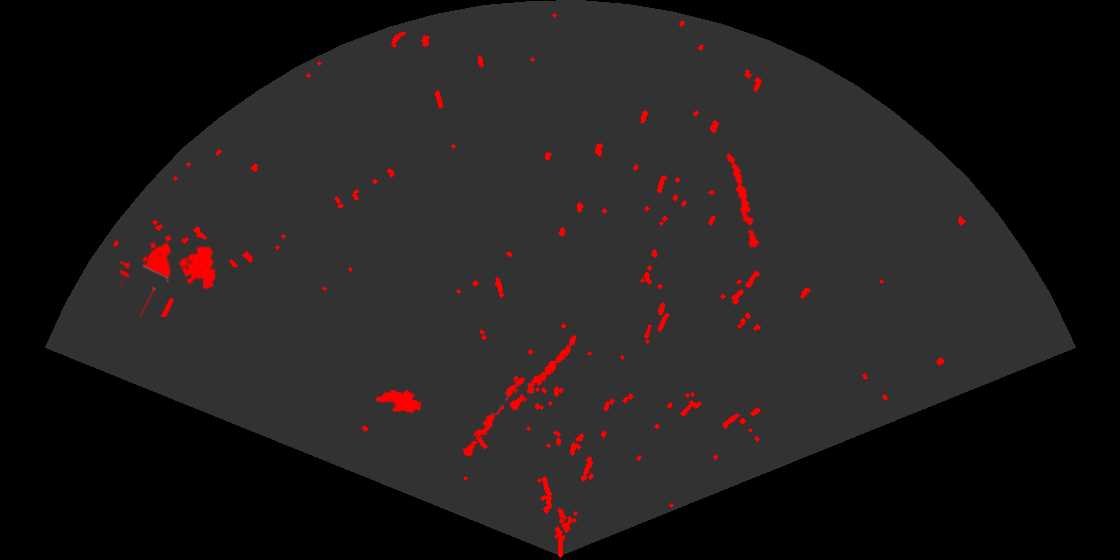AUV: (374, 388, 423, 415)
cage: (120, 233, 218, 317)
chain: (508, 334, 578, 412), (461, 376, 526, 458), (725, 152, 761, 250)
